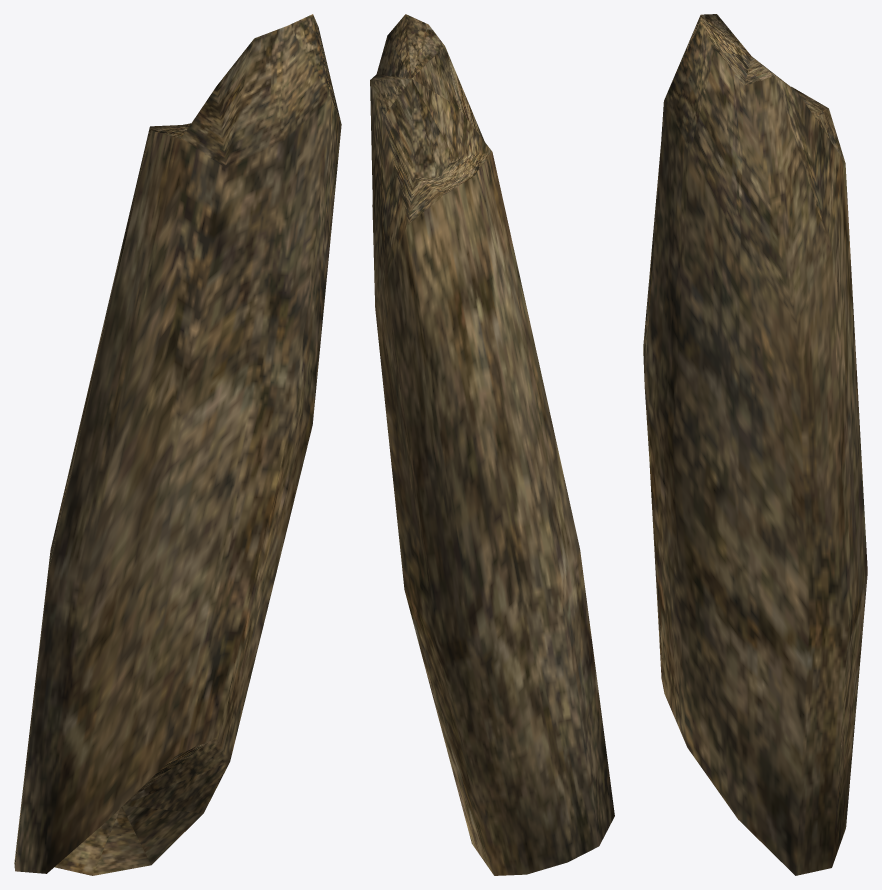
Rendered from CH09_SMAUG_PLAYSURFACE_LONELYMOUNTAIN_LM_PLAYSURFACE30.fbx.
3 renders of one model, left to right at view 1: azimuth 30°, elevation 25°; view 2: azimuth 150°, elevation 25°; view 3: azimuth 270°, elevation 25°, orthographic. The views are drawn at different scales.
Parts seen in each view (by area): view 1: CH09_SMAUG_PLAYSURFACE_LONELYMOUNTAIN_LM_PLAYSURFACE30; view 2: CH09_SMAUG_PLAYSURFACE_LONELYMOUNTAIN_LM_PLAYSURFACE30; view 3: CH09_SMAUG_PLAYSURFACE_LONELYMOUNTAIN_LM_PLAYSURFACE30.
Part boxes in pixels (bbox=[...]): CH09_SMAUG_PLAYSURFACE_LONELYMOUNTAIN_LM_PLAYSURFACE30: bbox=[14, 14, 341, 875]; CH09_SMAUG_PLAYSURFACE_LONELYMOUNTAIN_LM_PLAYSURFACE30: bbox=[370, 14, 614, 875]; CH09_SMAUG_PLAYSURFACE_LONELYMOUNTAIN_LM_PLAYSURFACE30: bbox=[643, 14, 867, 875].
Size of the model in its own units: 34386 by 101999 by 22350.
Materials: 1 (1 with a texture image).
